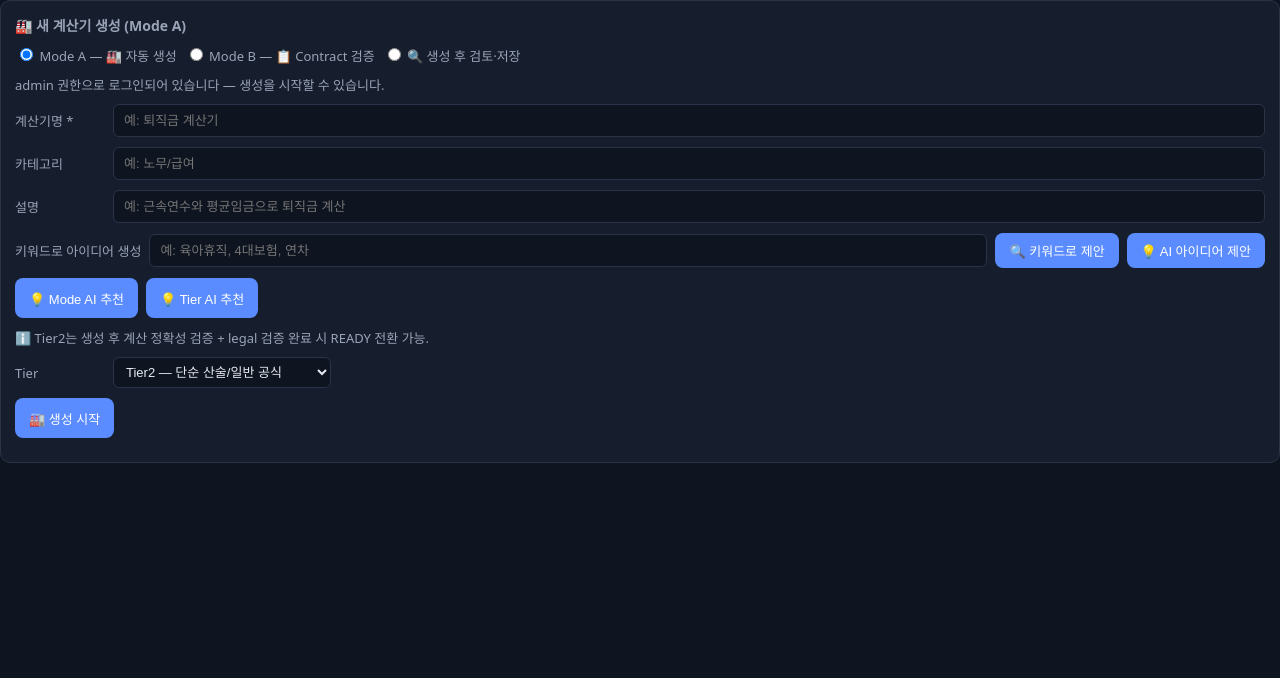
Test: App Factory 기본 정보 AI 보조 › 자유 아이디어 제안 실패는 고정 문구만 표시한다
Click the radio button labelled "Mode B — 📋 Contract 검증".
click(196, 54)  # box [190, 48, 203, 61]
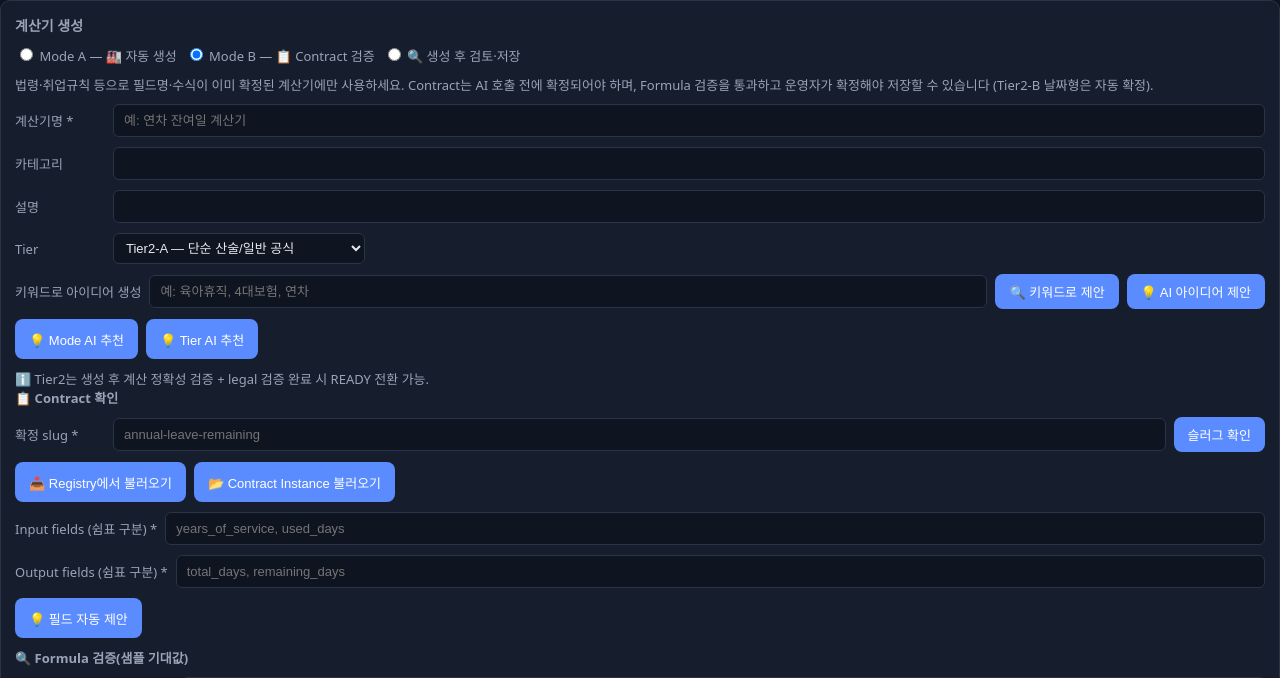
Result: the field labelled "계산기명 *" is shown at [113, 104, 1265, 137]
Click the button "💡 AI 아이디어 제안".
click(1196, 292)  # box [1127, 274, 1265, 309]
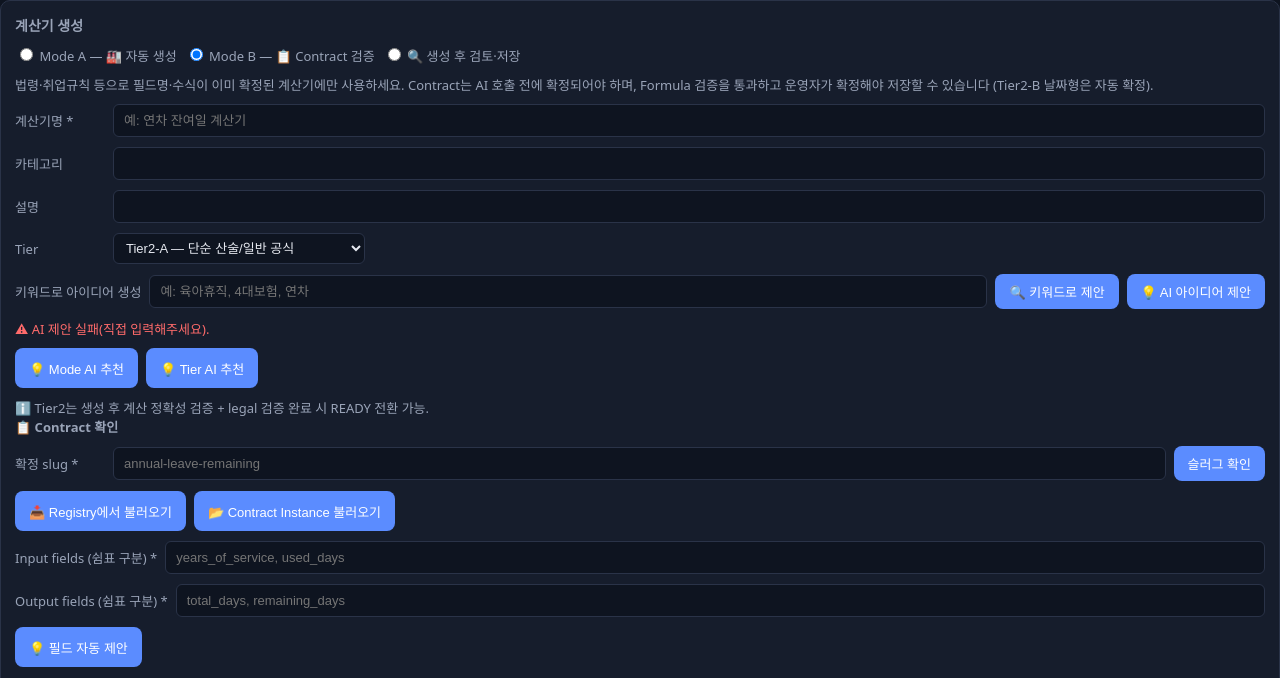
Result: the text "⚠ AI 제안 실패(직접 입력해주세요)." is shown at [15, 320, 209, 338]
